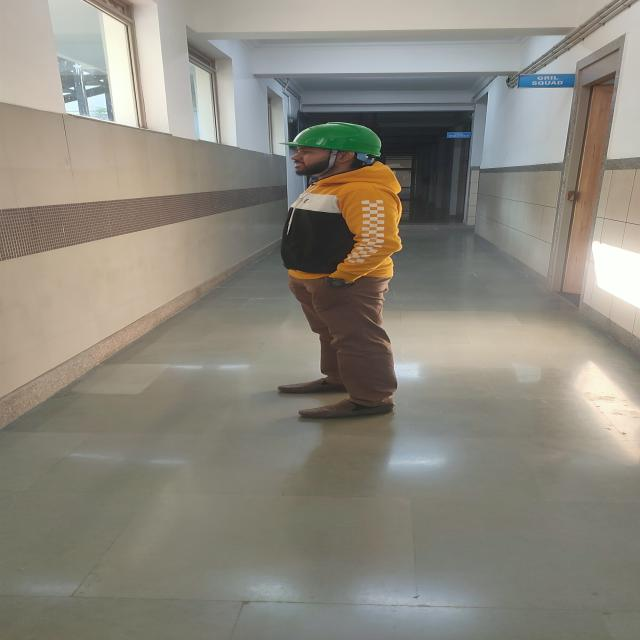no jacket: (280, 122, 402, 422)
